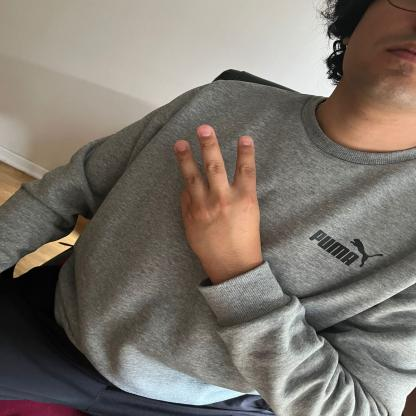W: (170, 122, 266, 270)
